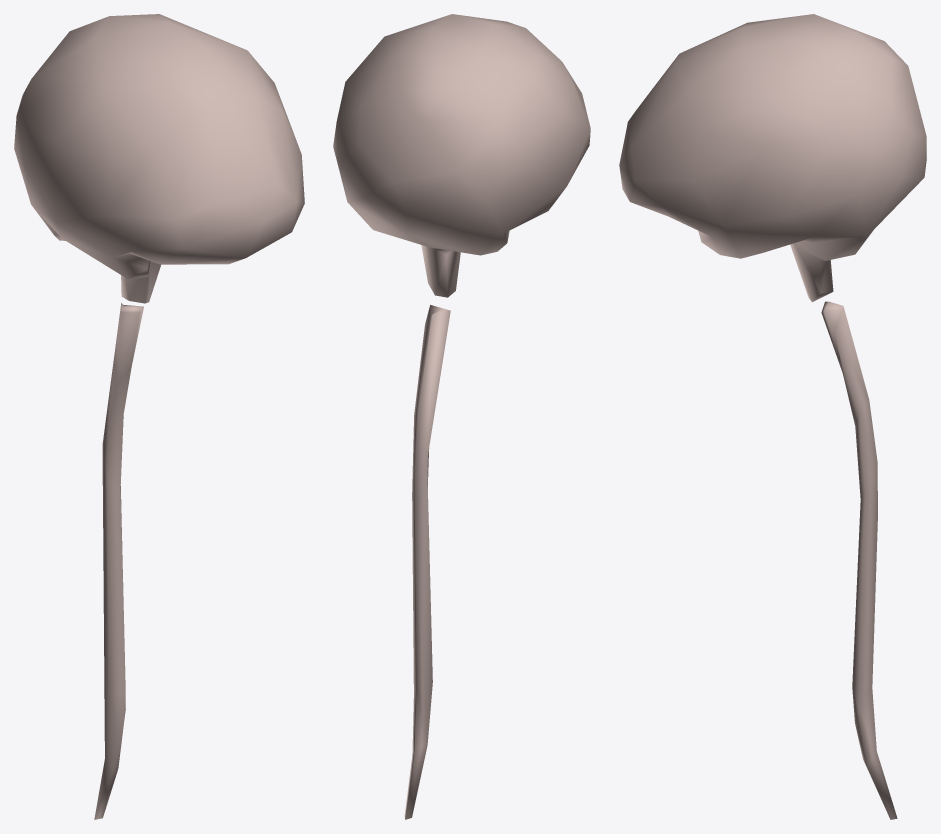
The model's file is pediatric_neonate_male.nervous.LOD3.glb.
The picture shows the model from 3 angles, left to right: view 1: azimuth 30°, elevation 25°; view 2: azimuth 150°, elevation 25°; view 3: azimuth 270°, elevation 25°; orthographic projection. The views are drawn at different scales.
Visible parts, largest first — view 1: PEDIATRIC.NEONATE.MALE.NERVOUS.BRAIN, PEDIATRIC.NEONATE.MALE.NERVOUS.SPINAL_CORD; view 2: PEDIATRIC.NEONATE.MALE.NERVOUS.BRAIN, PEDIATRIC.NEONATE.MALE.NERVOUS.SPINAL_CORD; view 3: PEDIATRIC.NEONATE.MALE.NERVOUS.BRAIN, PEDIATRIC.NEONATE.MALE.NERVOUS.SPINAL_CORD.
Part boxes in pixels (x1,y1,x2,y2): PEDIATRIC.NEONATE.MALE.NERVOUS.BRAIN: (14, 14, 304, 303); PEDIATRIC.NEONATE.MALE.NERVOUS.SPINAL_CORD: (94, 303, 143, 819); PEDIATRIC.NEONATE.MALE.NERVOUS.BRAIN: (333, 14, 590, 297); PEDIATRIC.NEONATE.MALE.NERVOUS.SPINAL_CORD: (404, 305, 450, 819); PEDIATRIC.NEONATE.MALE.NERVOUS.BRAIN: (619, 14, 926, 302); PEDIATRIC.NEONATE.MALE.NERVOUS.SPINAL_CORD: (821, 301, 897, 819).
Bounding box in the file's own units: 0.0866 × 0.3013 × 0.1064.
